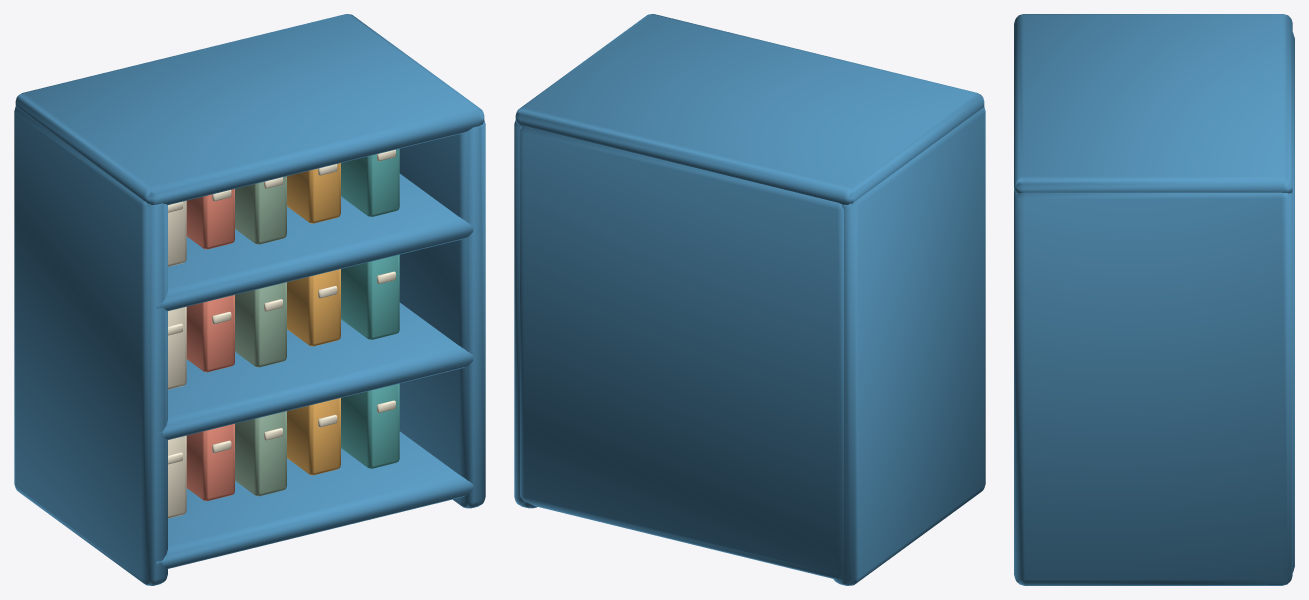
Rendered from rounded-bookshelf.glb.
3 views of the same model, side by side, from view 1: azimuth 30°, elevation 25°; view 2: azimuth 150°, elevation 25°; view 3: azimuth 270°, elevation 25° (orthographic). The views are drawn at different scales.
Visible parts, largest first — view 1: rounded-bookshelf-blue shelving, rounded-bookshelf-teal shirt, rounded-bookshelf-sage upholstery, rounded-bookshelf-ochre blanket, rounded-bookshelf-coral shoes, rounded-bookshelf-cream accents; view 2: rounded-bookshelf-blue shelving; view 3: rounded-bookshelf-blue shelving.
Boxes of the visible parts, left/top/right/bottom form: rounded-bookshelf-blue shelving: left=14, top=14, right=485, bottom=585; rounded-bookshelf-teal shirt: left=341, top=149, right=399, bottom=468; rounded-bookshelf-sage upholstery: left=235, top=176, right=286, bottom=496; rounded-bookshelf-ochre blanket: left=287, top=163, right=340, bottom=475; rounded-bookshelf-coral shoes: left=186, top=189, right=234, bottom=501; rounded-bookshelf-cream accents: left=168, top=149, right=395, bottom=518; rounded-bookshelf-blue shelving: left=514, top=14, right=985, bottom=585; rounded-bookshelf-blue shelving: left=1014, top=14, right=1294, bottom=585.
Size of the model in its own units: 2.98 by 3.32 by 2.06.
